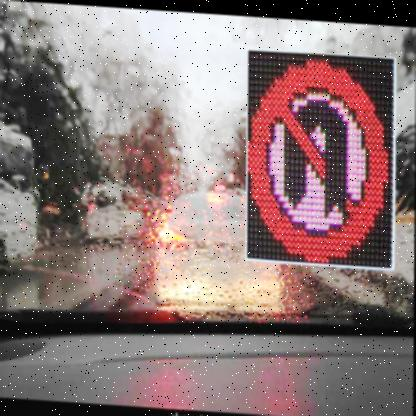No U-turn: (245, 43, 399, 263)
